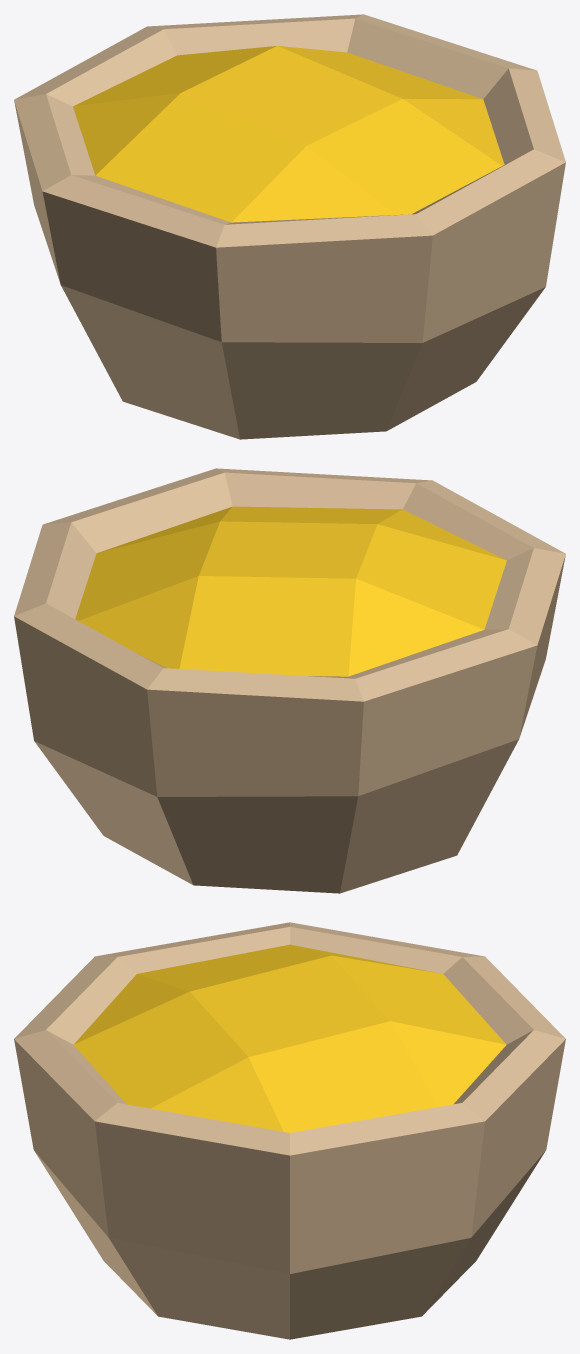
The model's file is egypt-bowl-spice.glb.
3 renders of one model, top to bottom at view 1: azimuth 30°, elevation 25°; view 2: azimuth 150°, elevation 25°; view 3: azimuth 270°, elevation 25°, orthographic. The views are drawn at different scales.
Parts seen in each view (by area): view 1: egypt-bowl-spice; view 2: egypt-bowl-spice; view 3: egypt-bowl-spice.
Boxes of the visible parts, x1=… form: egypt-bowl-spice: x1=14, y1=14, x2=565, y2=439; egypt-bowl-spice: x1=14, y1=468, x2=565, y2=893; egypt-bowl-spice: x1=14, y1=922, x2=565, y2=1339.
Size of the model in its own units: 0.533 by 0.2813 by 0.533.
1 material, 1 textured.
